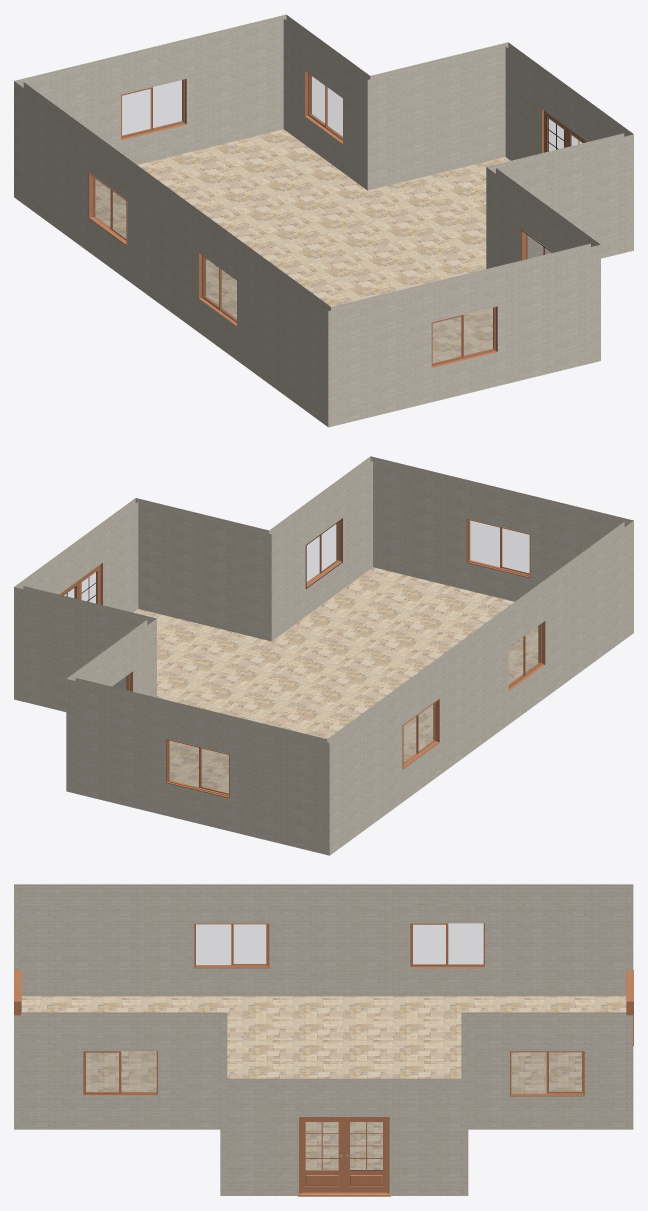
The model's file is telhado35a.glb.
3 renders of one model, top to bottom at view 1: azimuth 30°, elevation 25°; view 2: azimuth 150°, elevation 25°; view 3: azimuth 270°, elevation 25°, orthographic. The views are drawn at different scales.
Parts seen in each view (by area): view 1: object 3, root, object 2, object 4; view 2: object 3, root, object 2, object 4; view 3: object 3, root, object 2, object 4.
Part boxes in pixels (x1,y1,x2,y2): object 3: (14, 14, 633, 427); root: (95, 116, 578, 362); object 2: (93, 74, 581, 363); object 4: (88, 71, 586, 367); object 3: (14, 456, 633, 855); root: (63, 518, 538, 793); object 2: (64, 521, 541, 793); object 4: (59, 518, 545, 798); object 3: (14, 884, 633, 1195); root: (21, 996, 626, 1170); object 2: (86, 923, 581, 1170); object 4: (14, 923, 633, 1196).
Size of the model in its own units: 11.34 by 3.06 by 15.01.
10 materials, 4 textured.
